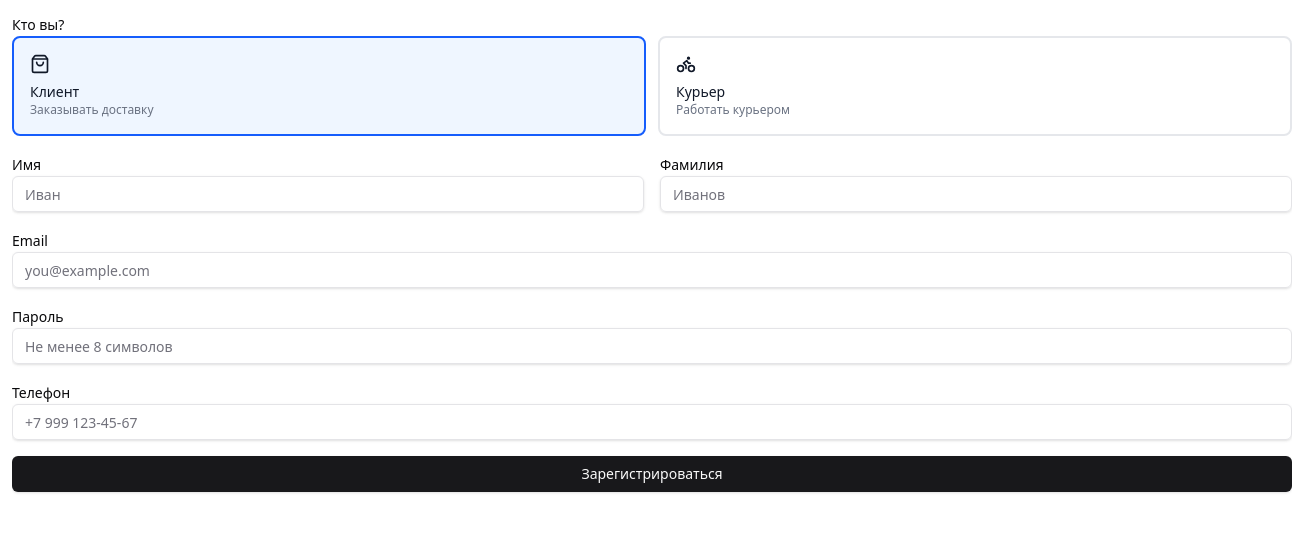
RegisterForm › rejects short password with zod error
In the field labelled "Email": (652,270) [12, 252, 1292, 288], type "a@b.io"
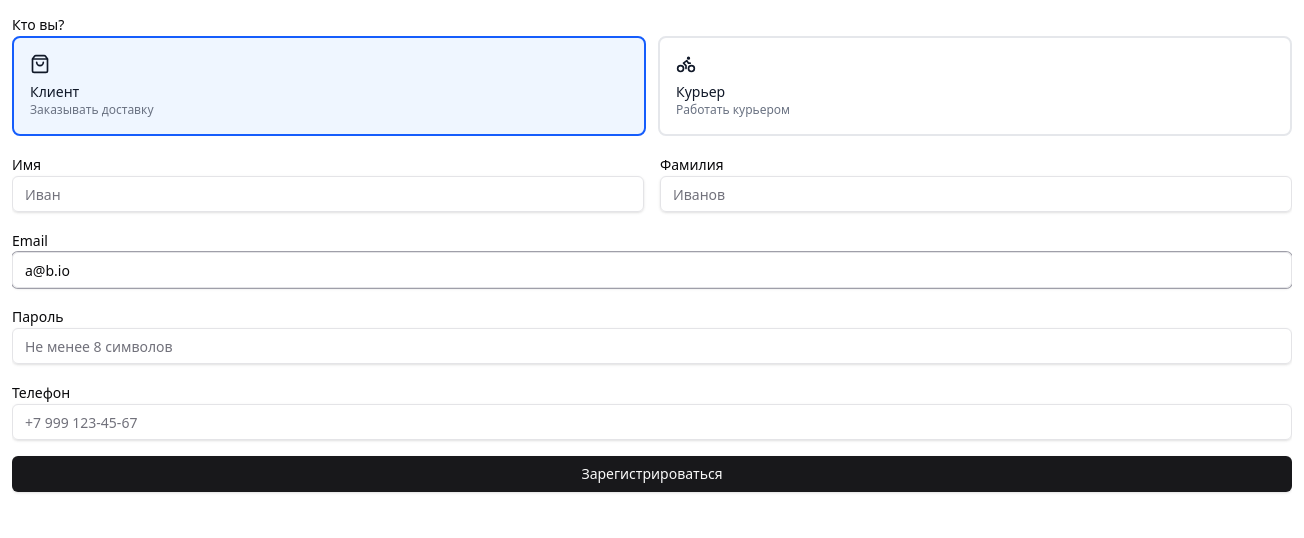
In the password field labelled "Пароль": (652,346) [12, 328, 1292, 364], type "short"
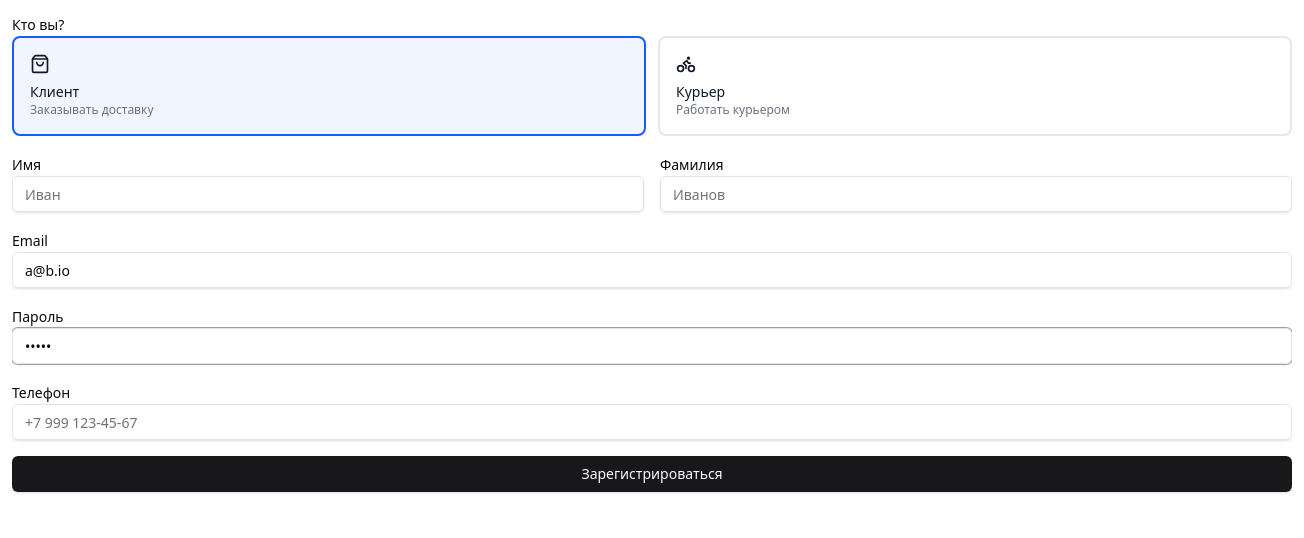
In the field labelled "Имя": (328,194) [12, 176, 644, 212], type "A"
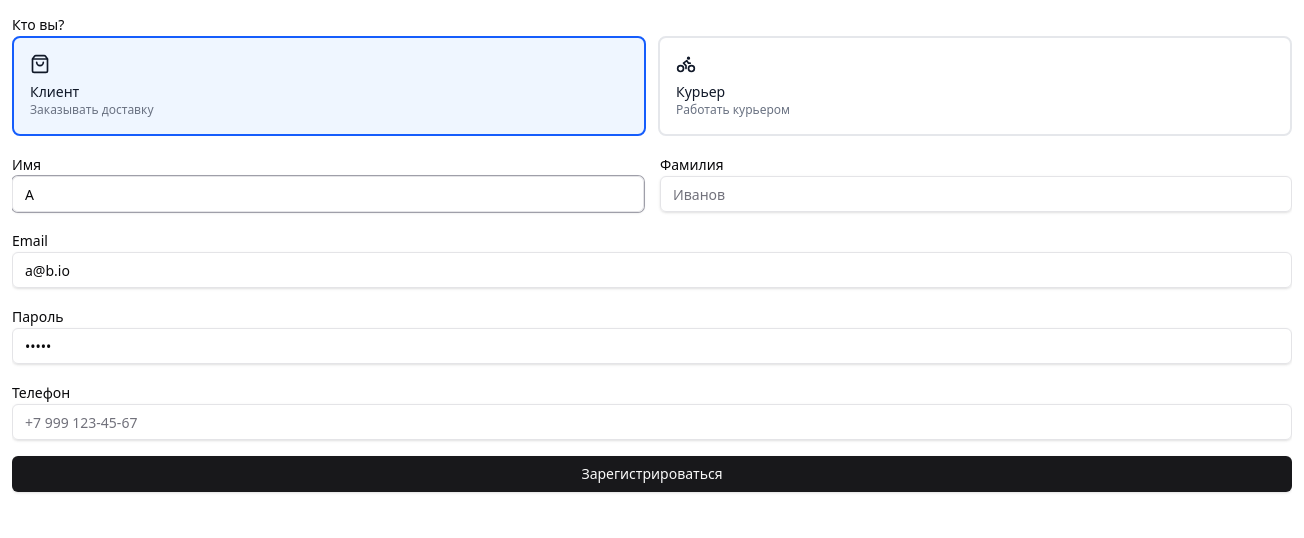
In the field labelled "Фамилия": (976,194) [660, 176, 1292, 212], type "B"
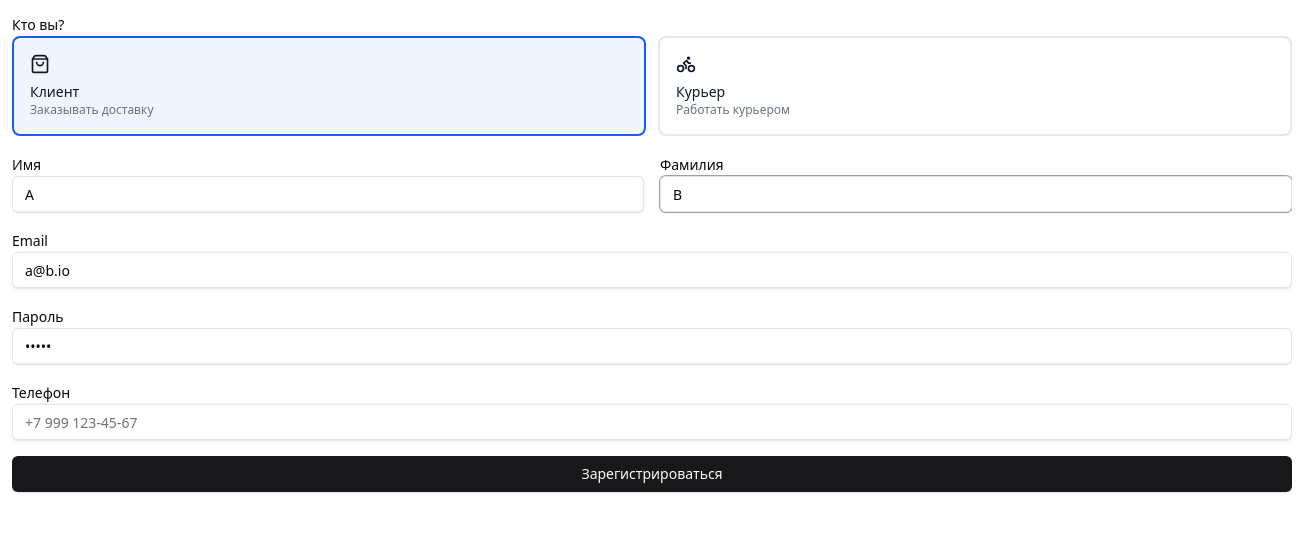
Click the button "Зарегистрироваться": (652,474) [12, 456, 1292, 492]
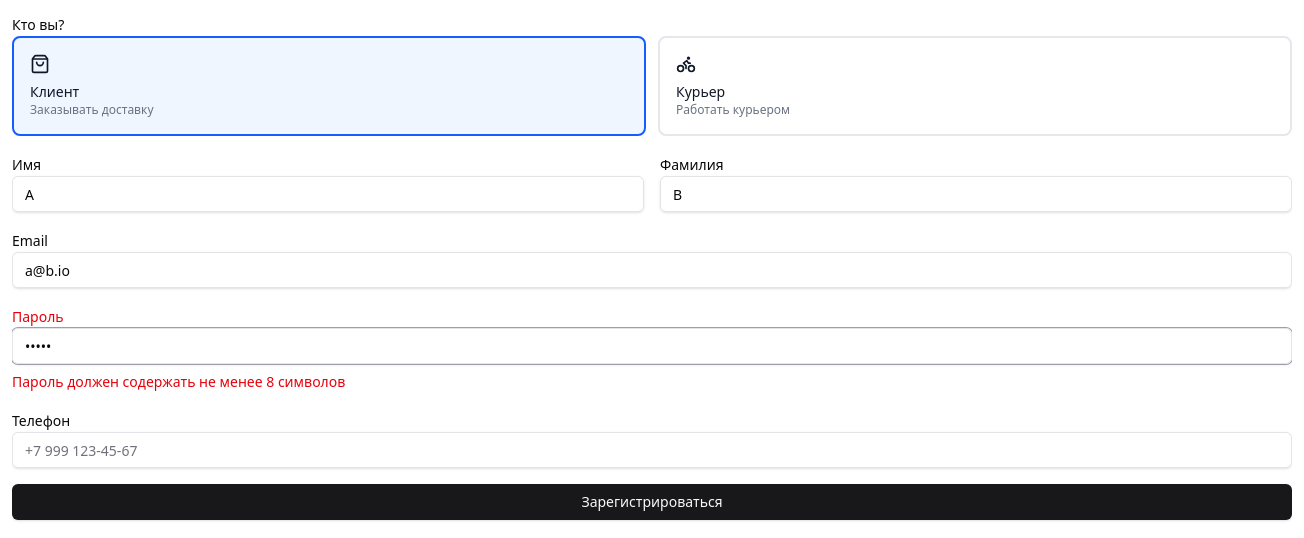
Check: the text "Пароль должен содержать не менее 8 символов" is shown, box [12, 372, 345, 391]
